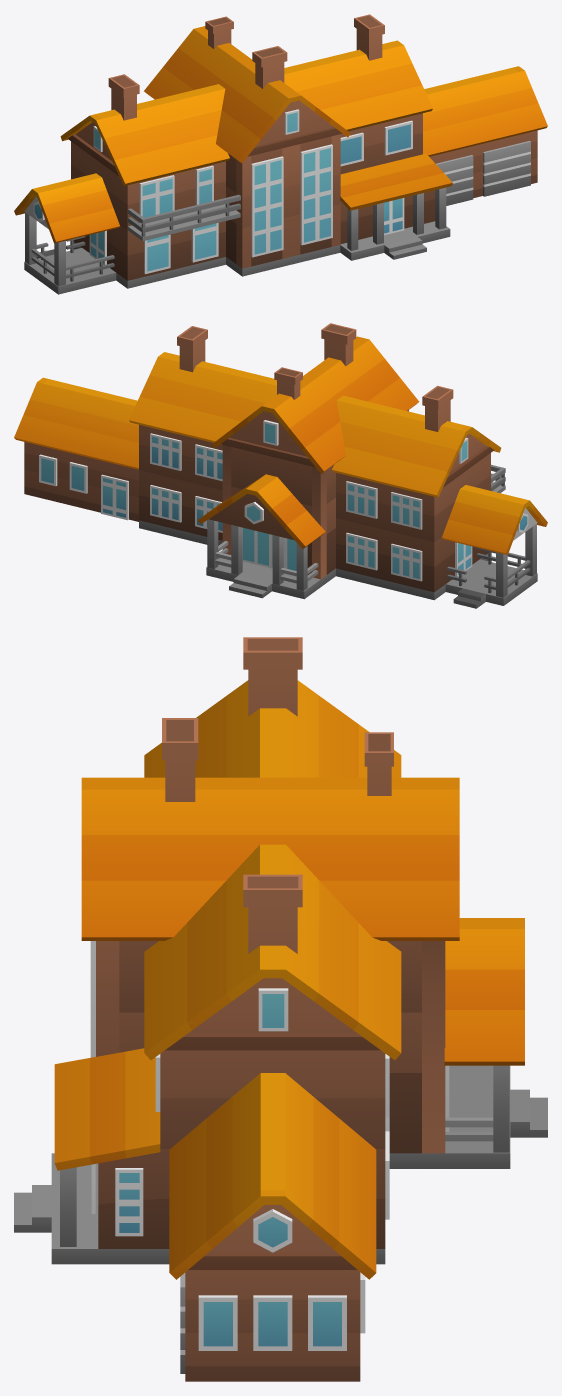
The model's file is big cottage.fbx.
The picture shows the model from 3 angles, top to bottom: view 1: azimuth 30°, elevation 25°; view 2: azimuth 150°, elevation 25°; view 3: azimuth 270°, elevation 25°; orthographic projection. The views are drawn at different scales.
Visible parts, largest first — view 1: big_cottage; view 2: big_cottage; view 3: big_cottage.
Boxes of the visible parts, left/top/right/bottom form: big_cottage: left=14, top=14, right=547, bottom=294; big_cottage: left=14, top=323, right=547, bottom=608; big_cottage: left=14, top=637, right=547, bottom=1381.
Size of the model in its own units: 2401 by 928 by 1150.
1 material, 1 textured.
